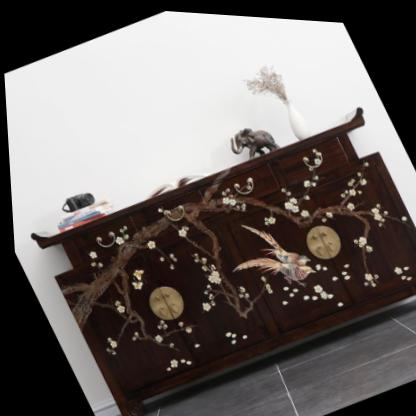Ceramic floor: (134, 294, 416, 416)
Cupboard: (30, 105, 416, 416)
